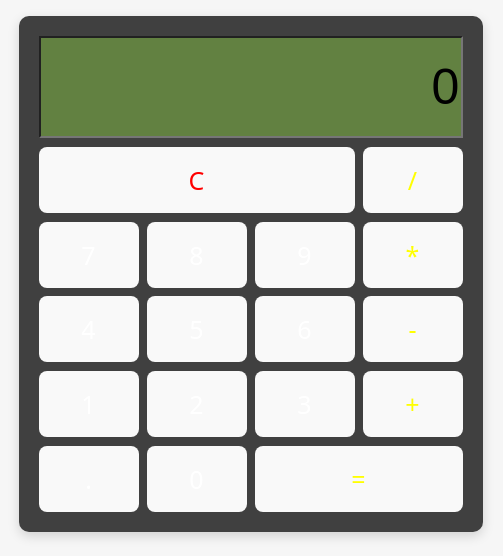
Backspace removes char and Escape clears
Clear the field. click: (251, 87)
box: [39,36,463,138]
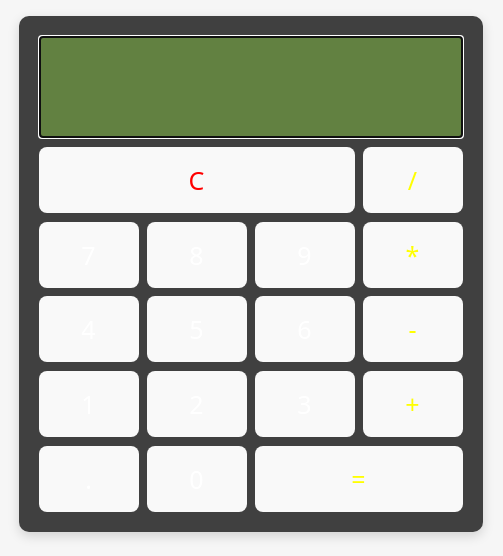
Type keys "12"
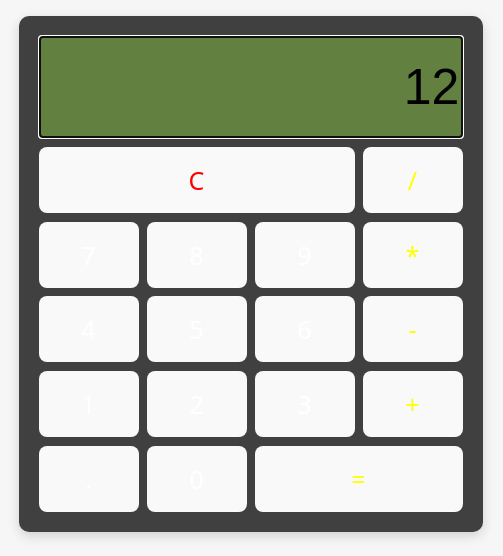
// backspace should remove '2'
Press Backspace
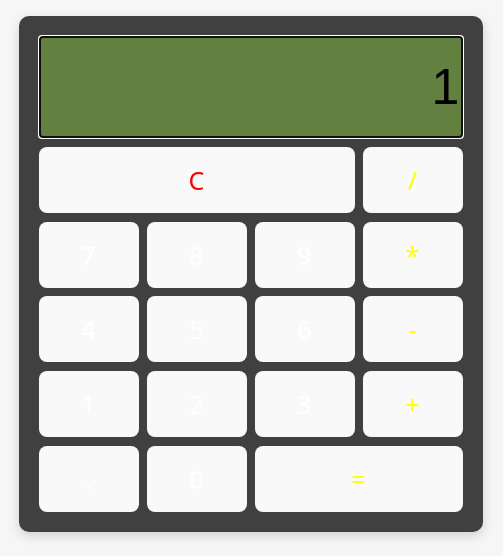
Result: the field holds "1" at [39,36,463,138]
// escape should reset to 0
Press Escape
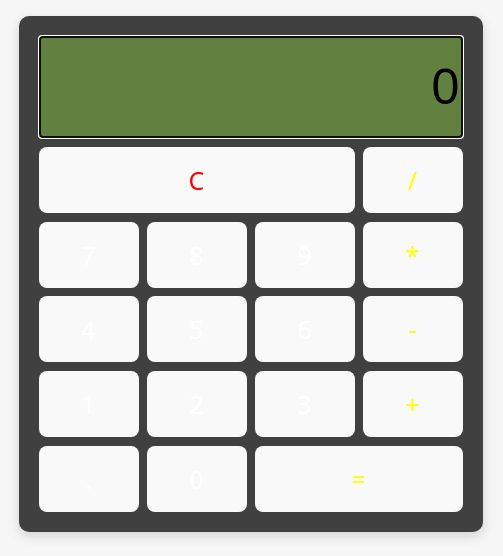
Result: the field holds "0" at [39,36,463,138]
